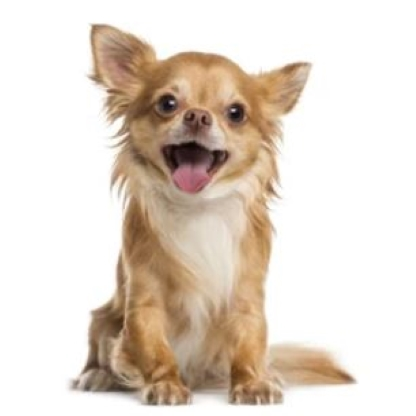chihuahua: (68, 20, 361, 408)
